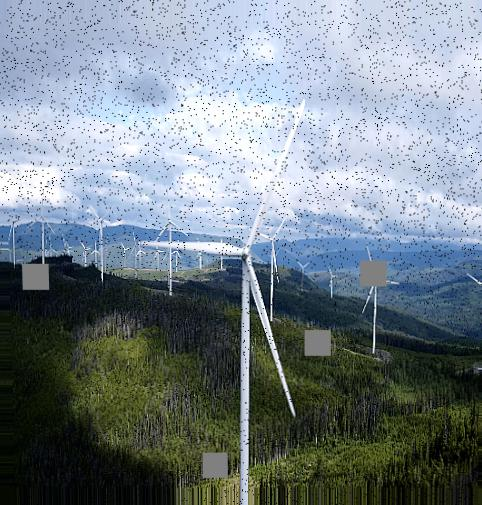wind turbine: (138, 97, 307, 479), (357, 247, 403, 354), (153, 197, 190, 295)
